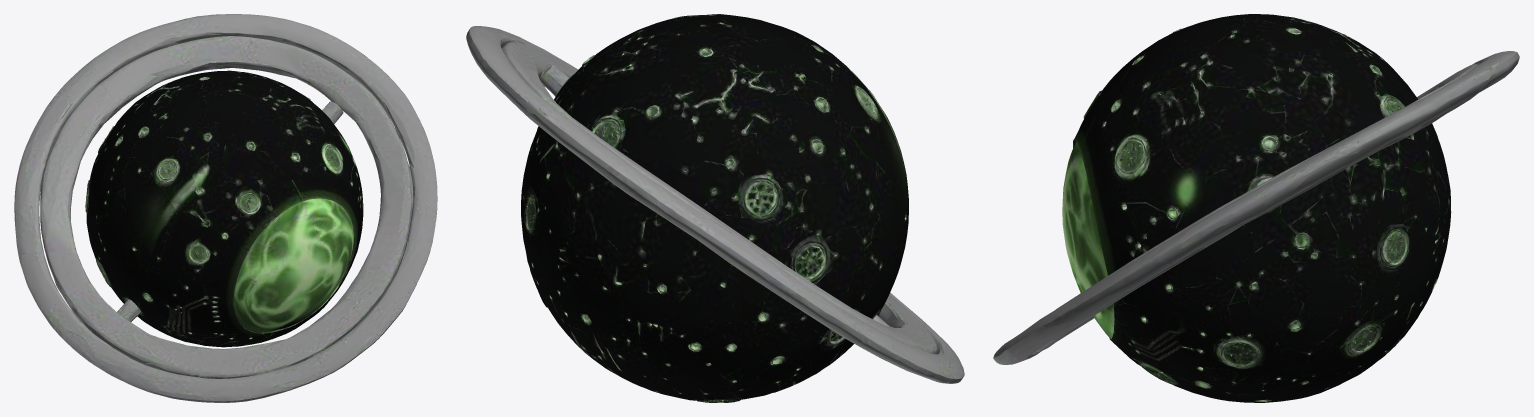
The model's file is orb.glb.
The picture shows the model from 3 angles, left to right: view 1: azimuth 30°, elevation 25°; view 2: azimuth 150°, elevation 25°; view 3: azimuth 270°, elevation 25°; orthographic projection. The views are drawn at different scales.
Parts seen in each view (by area): view 1: mesh_node; view 2: mesh_node; view 3: mesh_node.
Boxes of the visible parts, left/top/right/bottom form: mesh_node: left=14, top=14, right=437, bottom=402; mesh_node: left=466, top=14, right=964, bottom=402; mesh_node: left=993, top=14, right=1519, bottom=402.
Size of the model in its own units: 1.9 by 1.32 by 1.79.
1 material, 1 textured.
